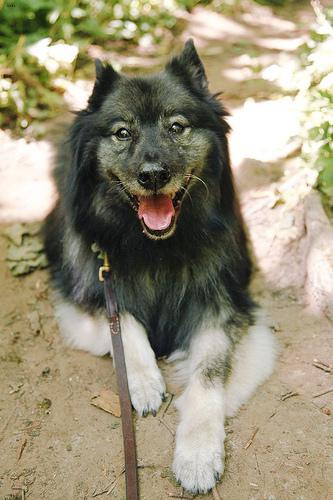dog-keeshond: (83, 37, 215, 239)
